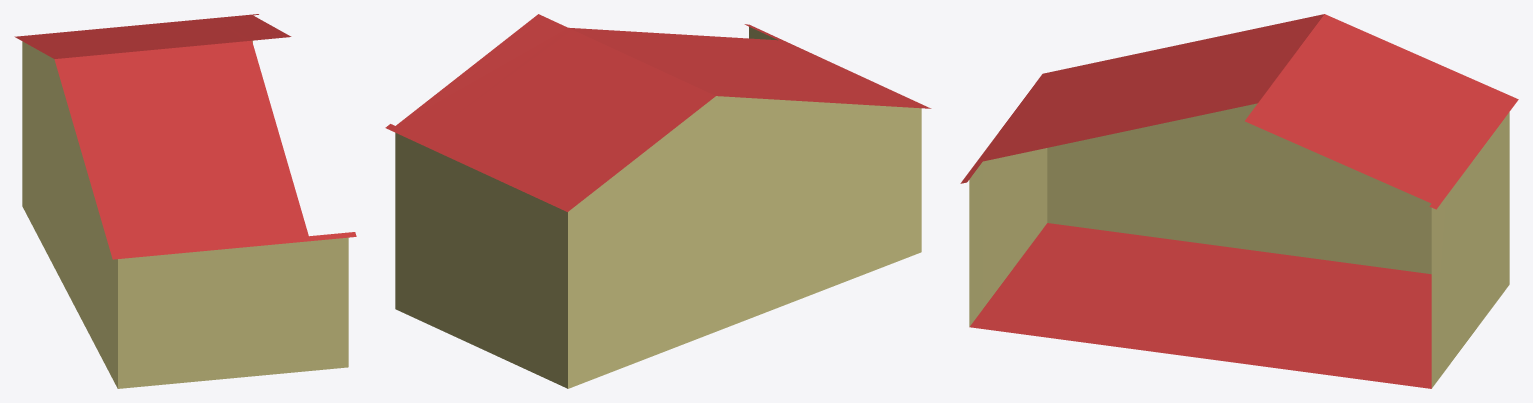
The picture shows the model from 3 angles, left to right: view 1: azimuth 30°, elevation 25°; view 2: azimuth 150°, elevation 25°; view 3: azimuth 270°, elevation 25°; orthographic projection. The views are drawn at different scales.
Size of the model in its own units: 13.99 by 19 by 9.11.
